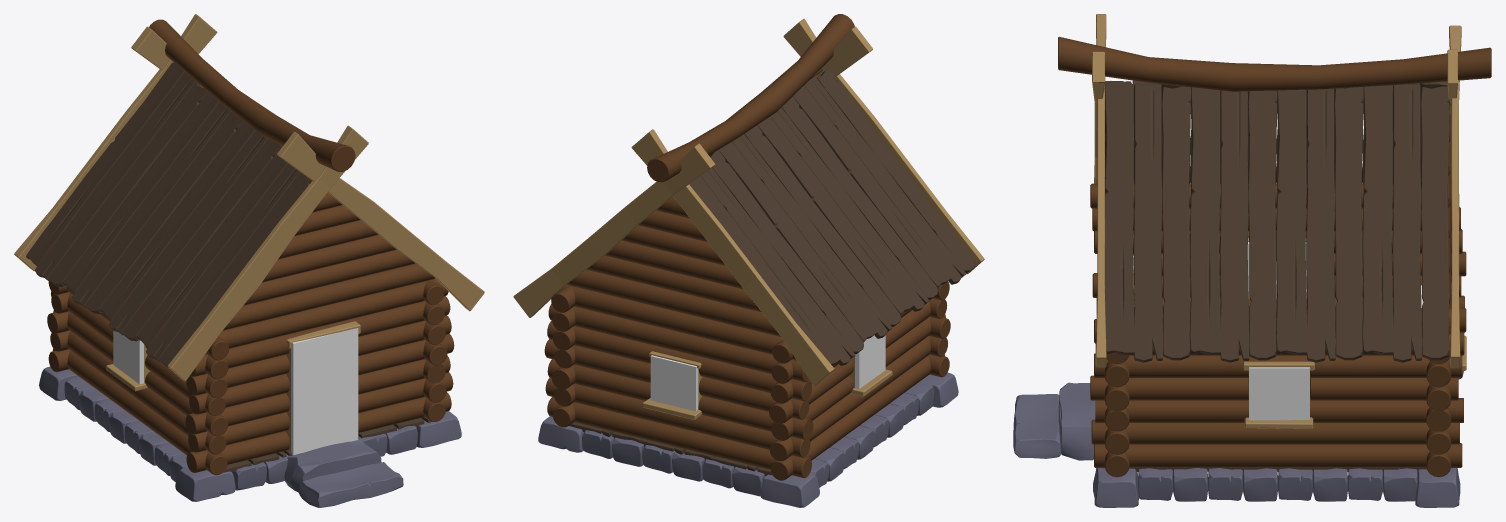
File: RepairedCabin_0.1.fbx
3 renders of one model, left to right at view 1: azimuth 30°, elevation 25°; view 2: azimuth 150°, elevation 25°; view 3: azimuth 270°, elevation 25°, orthographic. The views are drawn at different scales.
Parts seen in each view (by area): view 1: Plane.002, Cube.005, Cube.001, Cube, Cylinder.032, Cylinder.023, Cylinder.033, Cube.017, Cylinder.022, Cylinder.016, Cylinder.021, Cylinder.020 (+21 smaller); view 2: Plane.002, Cube.003, Cube.004, Cylinder.032, Cylinder.025, Cylinder.030, Cube.015, Cylinder.031, Cylinder.040, Cube.017, Cylinder.026, Cylinder.029 (+19 smaller); view 3: Plane.001, Cylinder.032, Cube.016, Cylinder.008, Cylinder.010, Cylinder.012, Cylinder.011, Cylinder.013, Cube.007, Cube.019, Cube.004, Cube (+17 smaller).
Boxes of the visible parts, left/top/right/bottom form: Plane.002: left=26, top=62, right=311, bottom=367; Cube.005: left=291, top=328, right=358, bottom=455; Cube.001: left=167, top=125, right=368, bottom=381; Cube: left=277, top=132, right=484, bottom=311; Cylinder.032: left=149, top=19, right=355, bottom=171; Cylinder.023: left=205, top=278, right=448, bottom=354; Cylinder.033: left=223, top=263, right=434, bottom=330; Cube.017: left=64, top=376, right=187, bottom=482; Cylinder.022: left=190, top=296, right=450, bottom=376; Cylinder.016: left=186, top=392, right=451, bottom=472; Cylinder.021: left=186, top=315, right=451, bottom=395; Cylinder.020: left=189, top=333, right=454, bottom=414; Plane.002: left=689, top=69, right=974, bottom=365; Cube.003: left=631, top=129, right=834, bottom=386; Cube.004: left=513, top=143, right=715, bottom=317; Cylinder.032: left=647, top=14, right=854, bottom=182; Cylinder.025: left=547, top=397, right=811, bottom=478; Cylinder.030: left=548, top=303, right=809, bottom=382; Cube.015: left=582, top=430, right=765, bottom=496; Cylinder.031: left=562, top=285, right=796, bottom=360; Cylinder.040: left=566, top=269, right=781, bottom=337; Cube.017: left=810, top=382, right=934, bottom=487; Cylinder.026: left=545, top=377, right=810, bottom=457; Cylinder.029: left=547, top=320, right=811, bottom=401; Plane.001: left=1104, top=81, right=1449, bottom=362; Cylinder.032: left=1058, top=36, right=1491, bottom=91; Cube.016: left=1138, top=468, right=1417, bottom=501; Cylinder.008: left=1094, top=443, right=1462, bottom=467; Cylinder.010: left=1091, top=419, right=1459, bottom=444; Cylinder.012: left=1090, top=375, right=1458, bottom=400; Cylinder.011: left=1095, top=398, right=1463, bottom=422; Cylinder.013: left=1094, top=353, right=1462, bottom=377; Cube.007: left=1249, top=367, right=1309, bottom=420; Cube.019: left=1013, top=394, right=1061, bottom=458; Cube.004: left=1449, top=25, right=1461, bottom=368; Cube: left=1095, top=14, right=1106, bottom=367.
Bounding box in the file's own units: 580 × 609 × 651.
